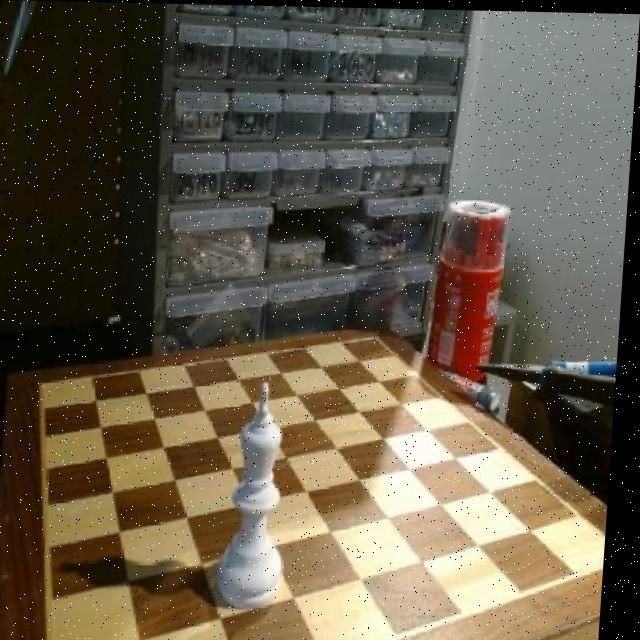white-bishop: (223, 370, 305, 613)
